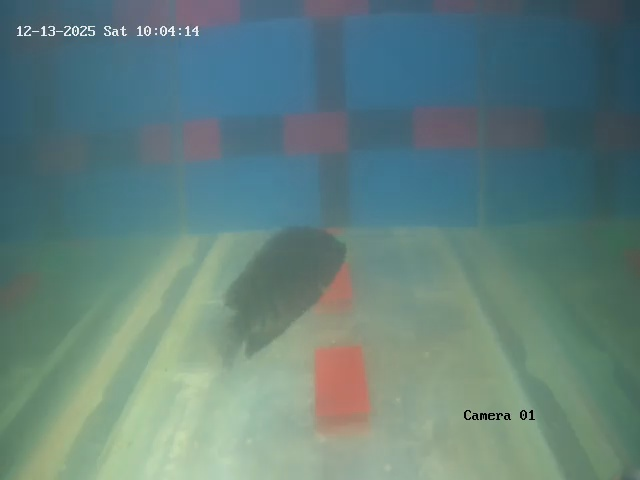fish: (228, 213, 350, 370)
